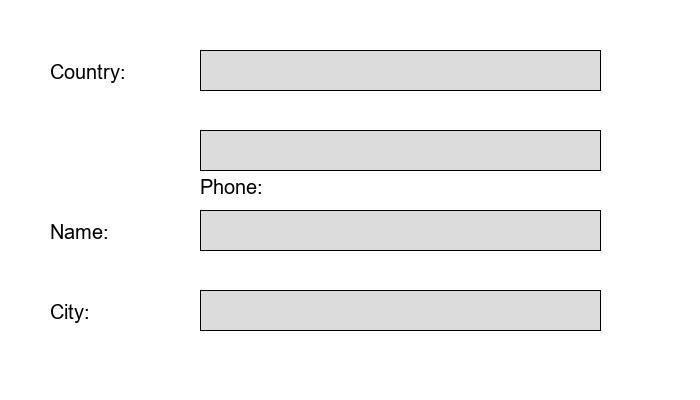Label: (50, 60, 120, 79), (200, 175, 257, 190), (50, 220, 103, 235), (50, 300, 84, 319)
Textbox: (200, 50, 600, 90), (200, 130, 600, 170), (200, 210, 600, 250), (200, 290, 600, 330)
